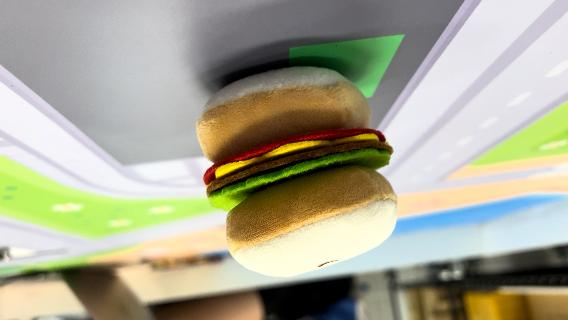sandwich: (194, 63, 401, 277)
